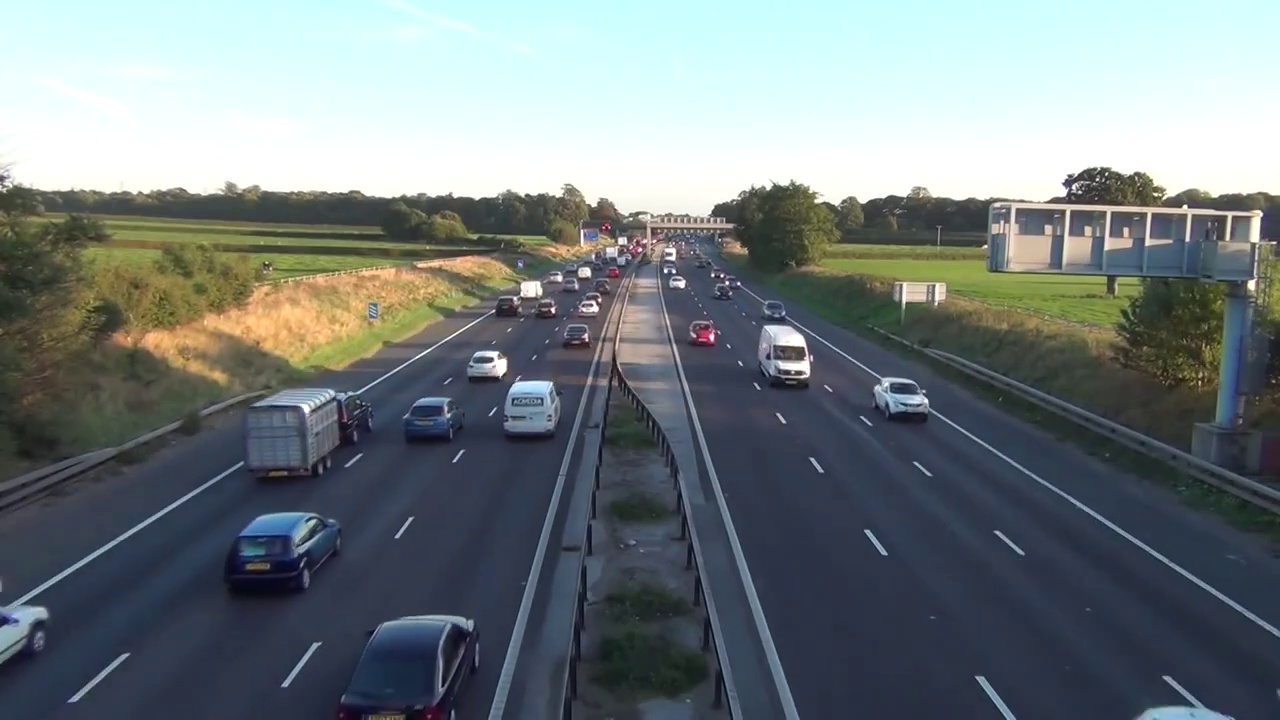bus: (333, 614, 481, 720), (222, 511, 344, 596), (755, 324, 815, 389), (503, 379, 563, 440), (401, 396, 465, 444), (870, 377, 930, 423), (337, 392, 374, 444), (466, 350, 509, 383), (687, 320, 715, 346), (760, 299, 788, 321), (563, 324, 591, 346), (495, 295, 520, 316), (576, 300, 601, 317), (535, 300, 558, 317), (713, 285, 730, 301), (667, 276, 687, 289), (724, 276, 741, 289), (663, 263, 678, 274)
